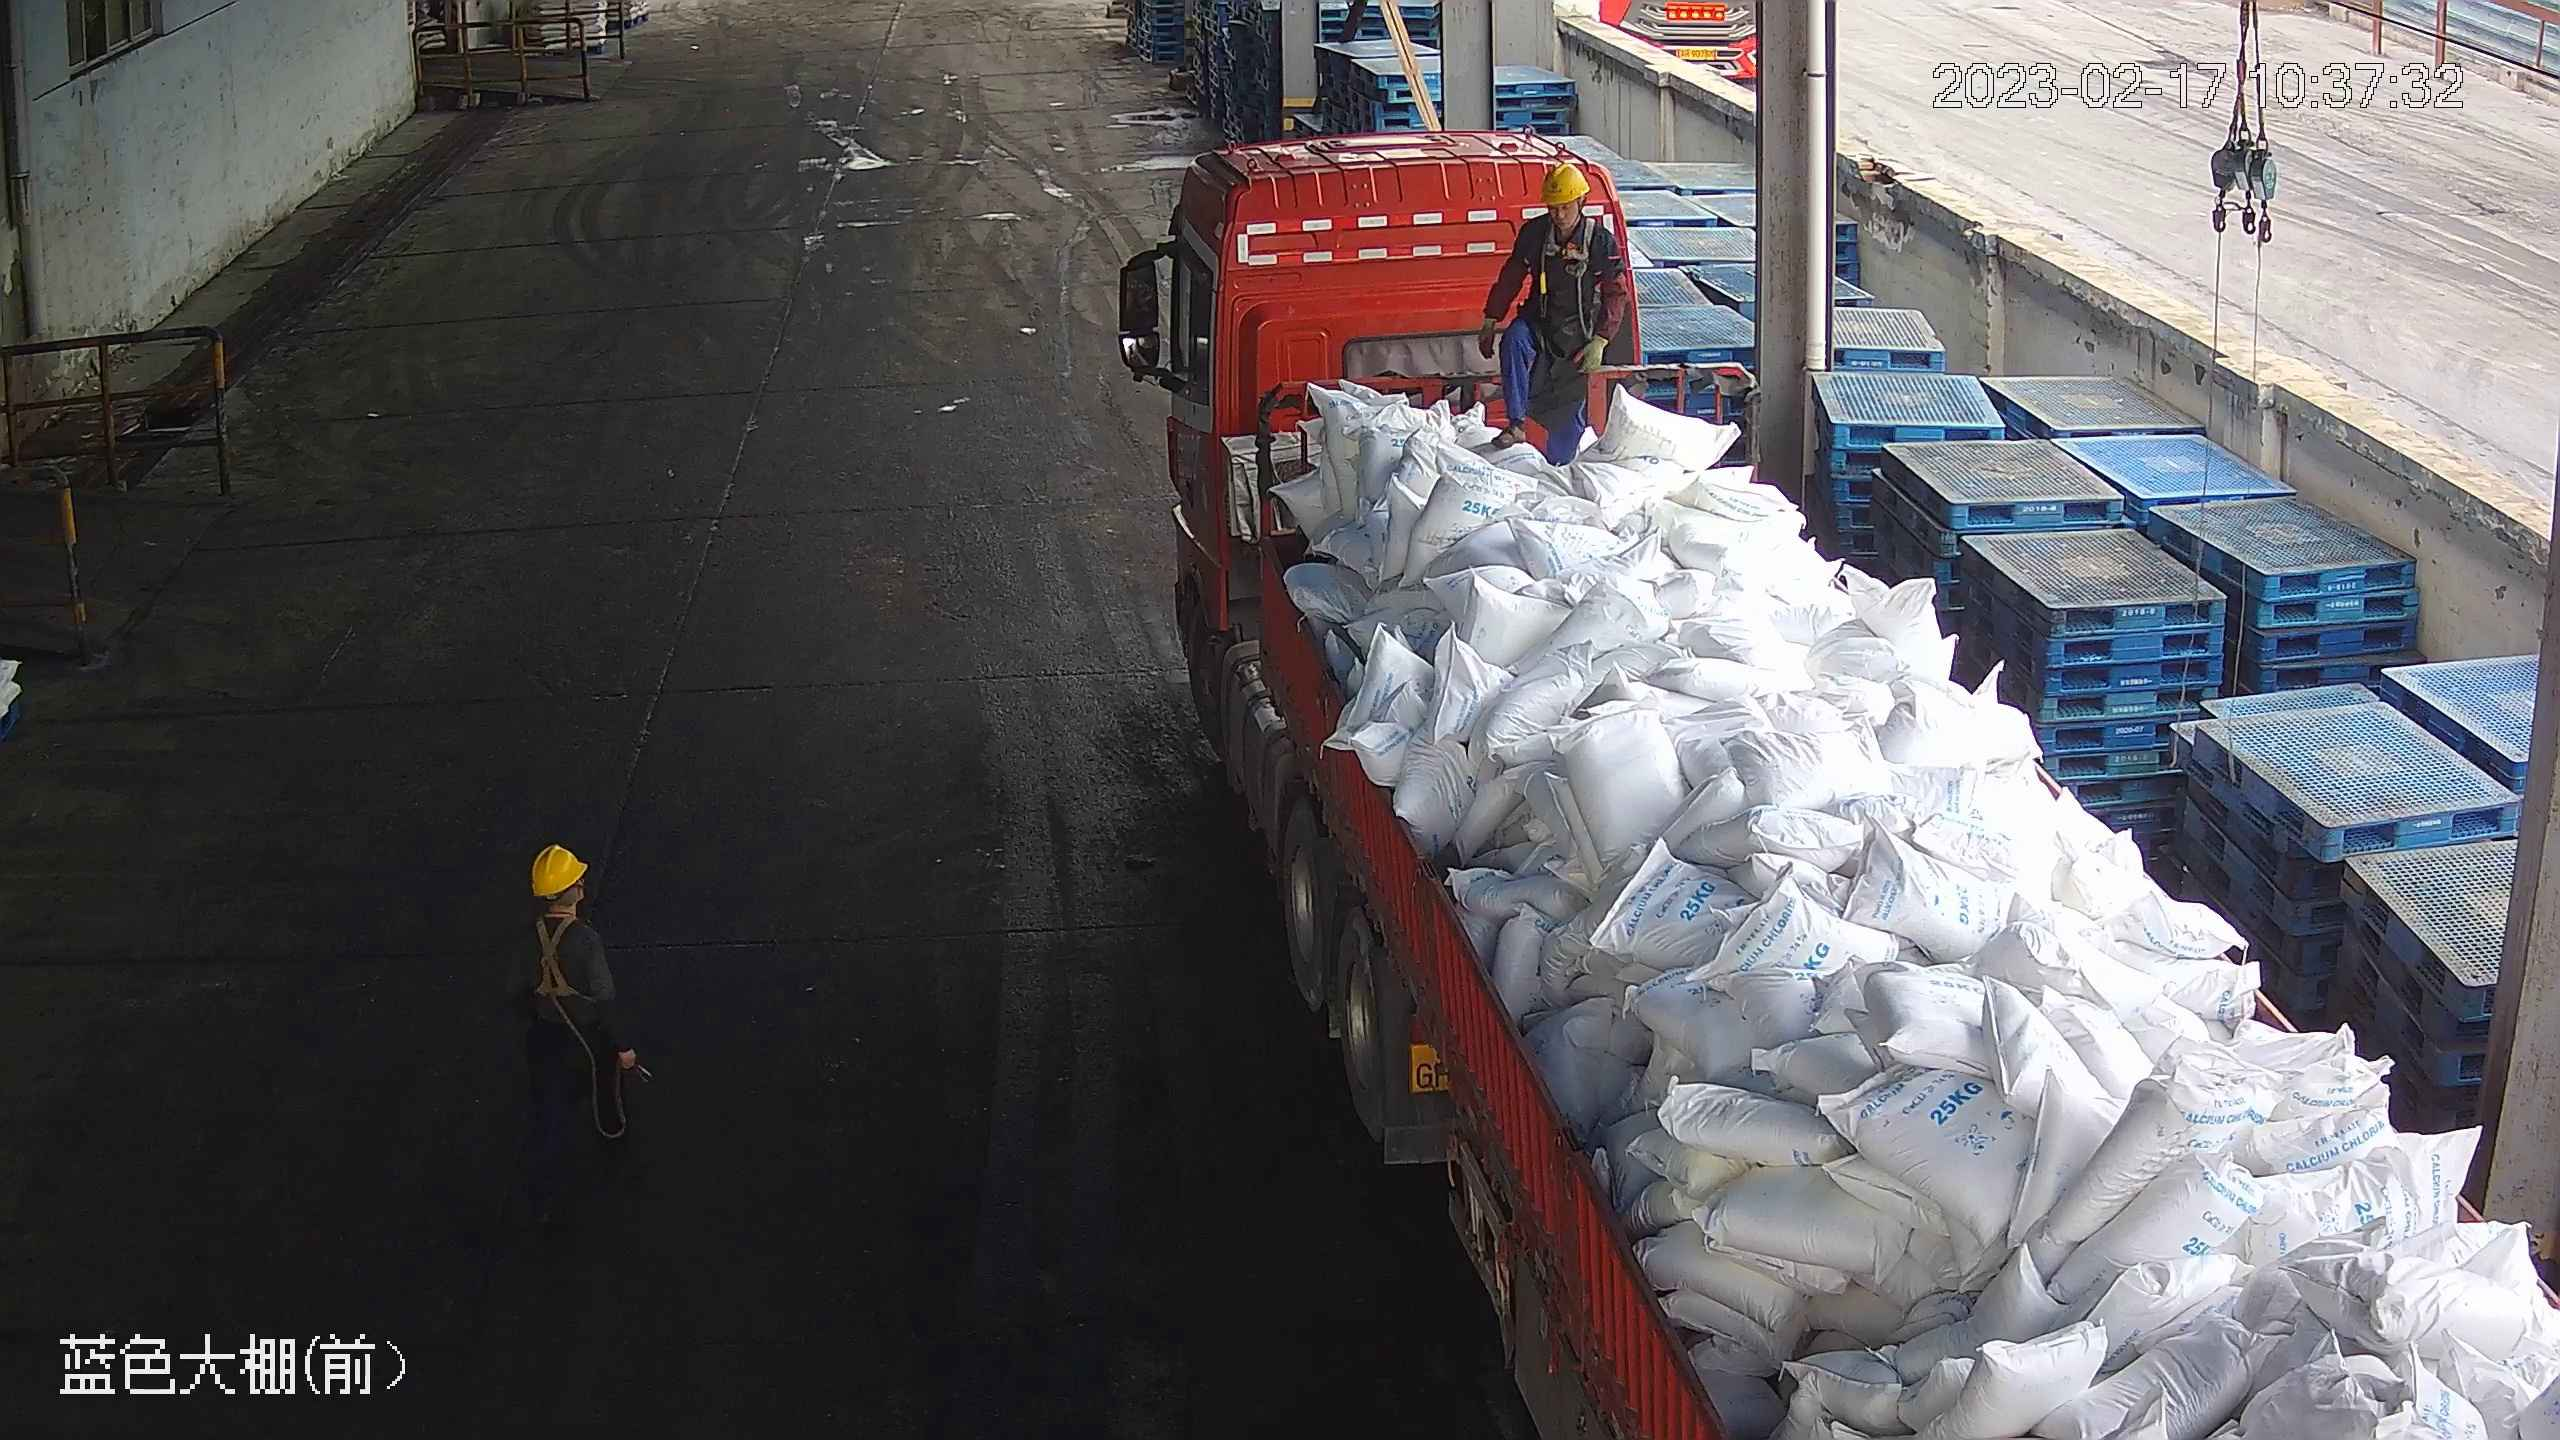belt: (524, 911, 604, 1005), (1527, 206, 1604, 270)
head: (513, 839, 619, 992), (1516, 159, 1618, 262)
helmet: (527, 841, 583, 895), (1539, 158, 1591, 206)
people: (508, 839, 648, 1236), (1476, 159, 1626, 469)
truck: (1116, 129, 2558, 1437)
